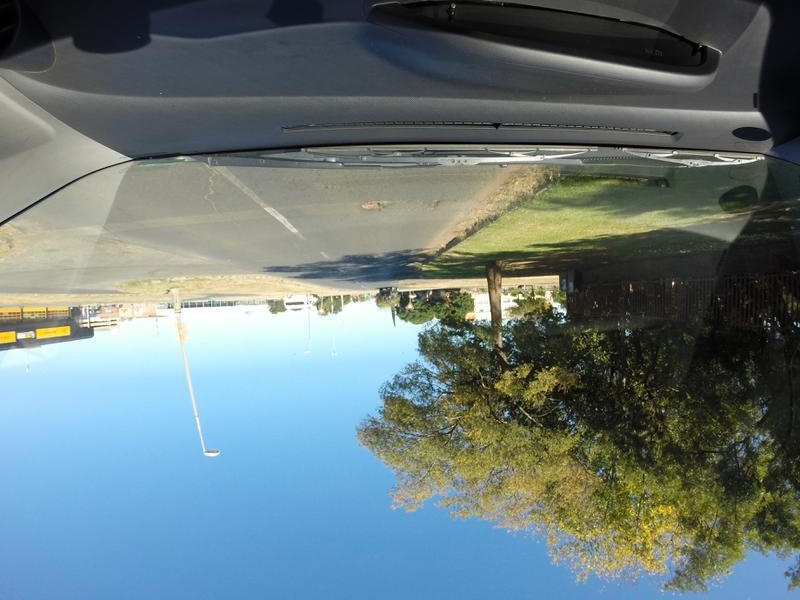pothole: (361, 198, 389, 211), (431, 196, 437, 207)
